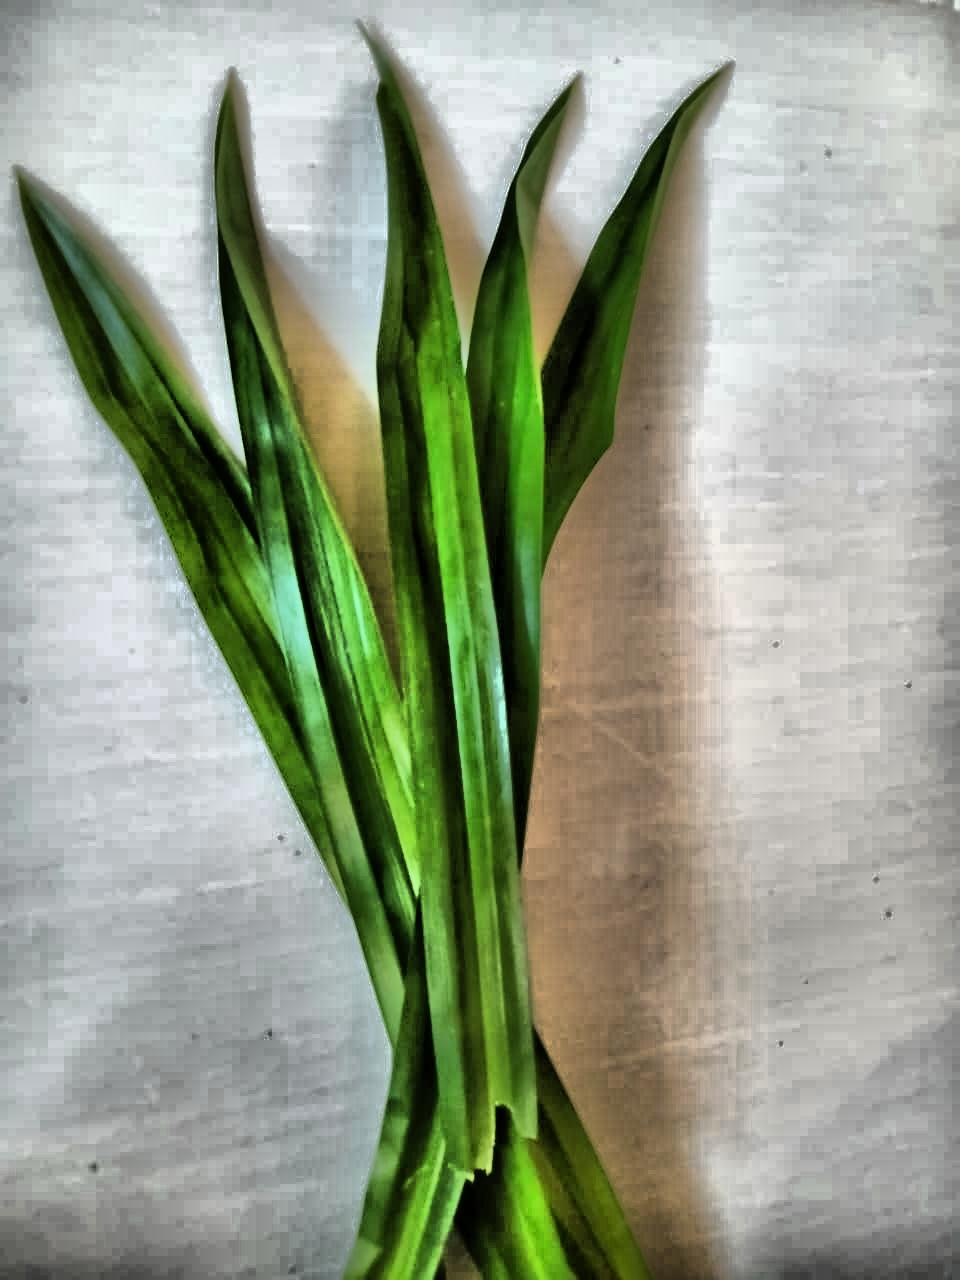daun pandan: (18, 65, 650, 1279), (543, 76, 715, 524)
